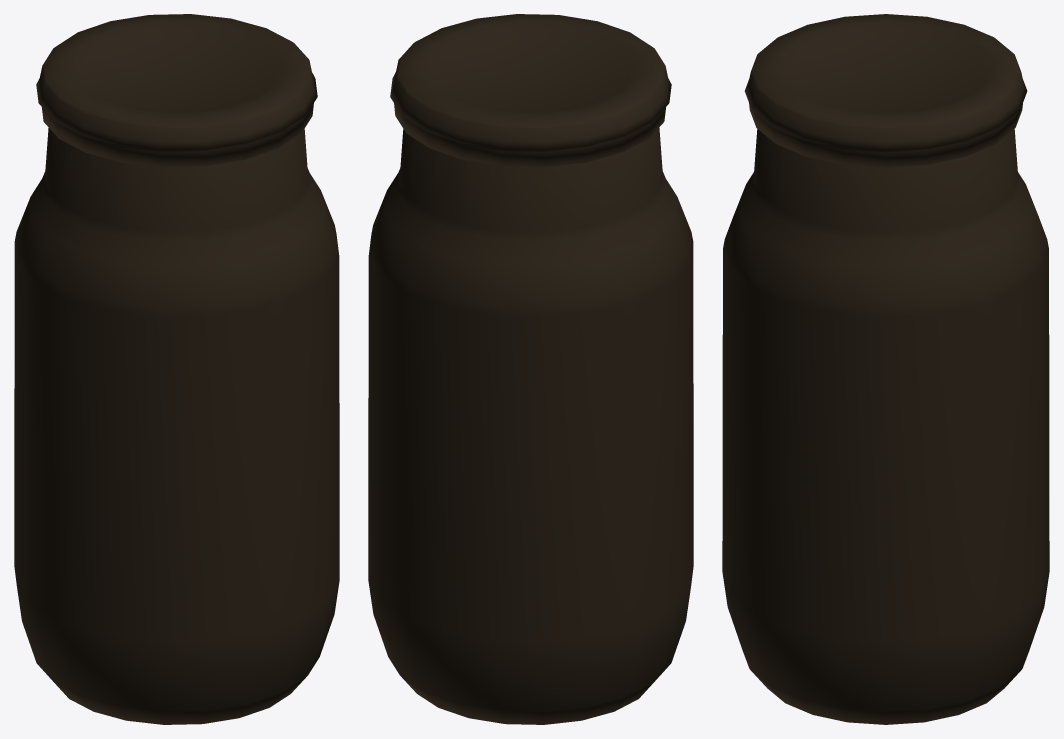
Rendered from jar4.fbx.
3 views of the same model, side by side, from view 1: azimuth 30°, elevation 25°; view 2: azimuth 150°, elevation 25°; view 3: azimuth 270°, elevation 25° (orthographic).
Parts seen in each view (by area): view 1: jar4; view 2: jar4; view 3: jar4.
Boxes of the visible parts, box(x1,y1,x2,y2) form: jar4: box(14, 14, 339, 724); jar4: box(368, 14, 693, 724); jar4: box(722, 14, 1049, 724).
Bounding box in the file's own units: 0.0668 × 0.1362 × 0.0668.
